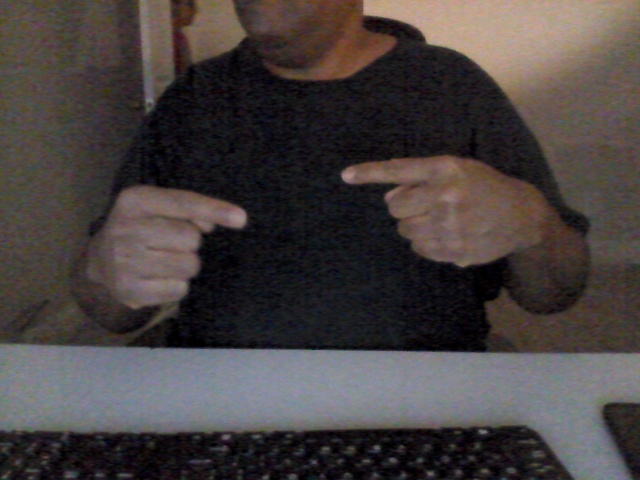go: (90, 151, 524, 310)
